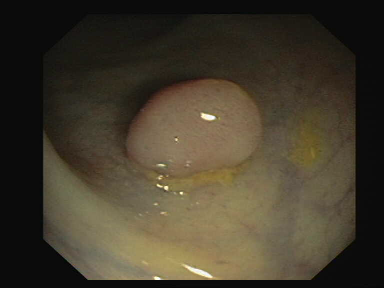polyp: (98, 47, 310, 198)
